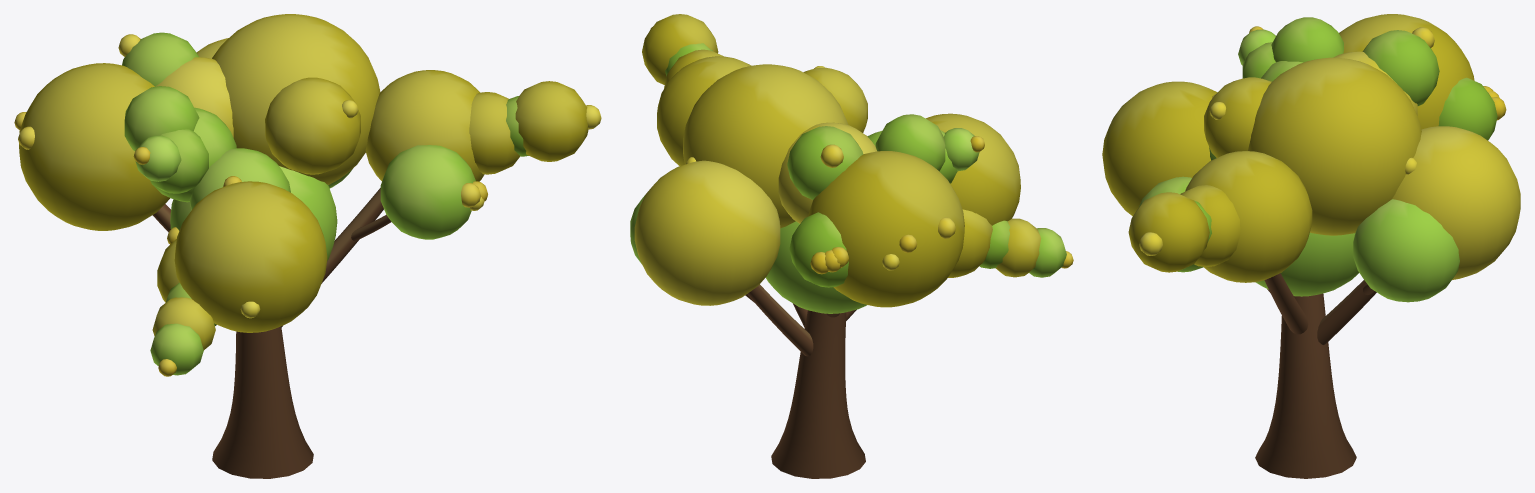
File: orchard-tree-113.obj
3 views of the same model, side by side, from view 1: azimuth 30°, elevation 25°; view 2: azimuth 150°, elevation 25°; view 3: azimuth 270°, elevation 25° (orthographic). The views are drawn at different scales.
Parts seen in each view (by area): view 1: tree; view 2: tree; view 3: tree.
Boxes of the visible parts, <box> form: tree: <box>14,14,601,478</box>; tree: <box>630,14,1073,478</box>; tree: <box>1102,14,1520,478</box>.
Size of the model in its own units: 330 by 288 by 265.
